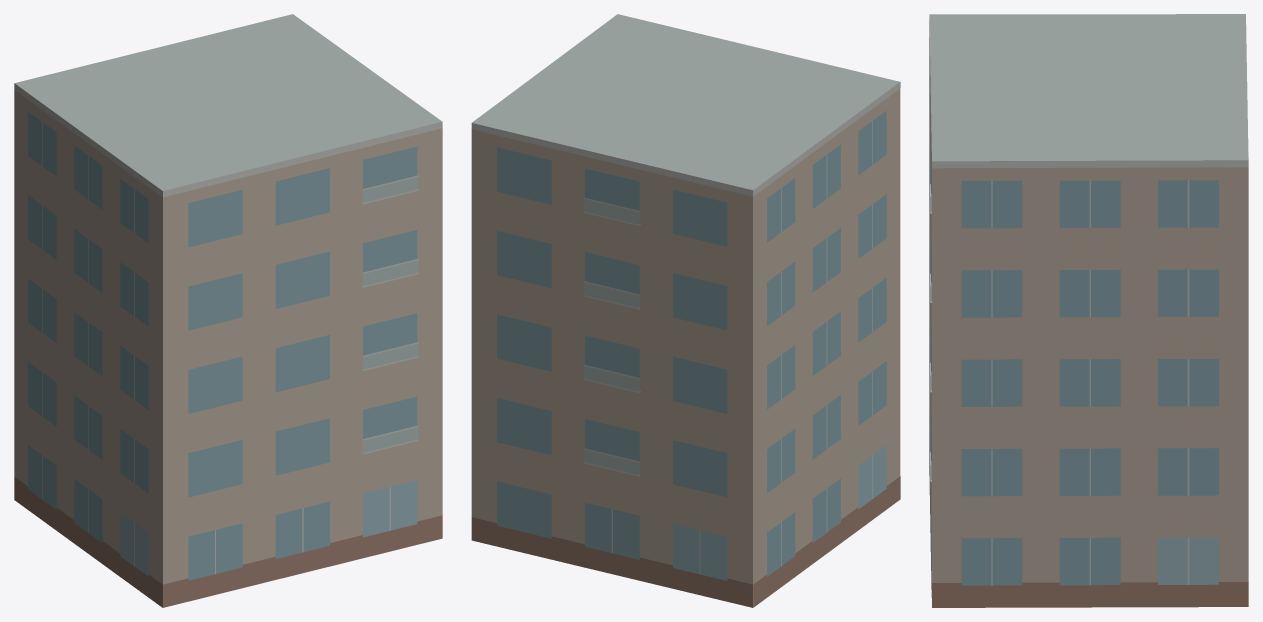
Rendered from survey-upis-32538565.glb.
3 renders of one model, left to right at view 1: azimuth 30°, elevation 25°; view 2: azimuth 150°, elevation 25°; view 3: azimuth 270°, elevation 25°, orthographic. The views are drawn at different scales.
Visible parts, largest first — view 1: survey-upis-32538565.tmp; view 2: survey-upis-32538565.tmp; view 3: survey-upis-32538565.tmp.
Boxes of the visible parts, bbox=[...] form: survey-upis-32538565.tmp: bbox=[14, 14, 442, 607]; survey-upis-32538565.tmp: bbox=[471, 14, 900, 607]; survey-upis-32538565.tmp: bbox=[929, 14, 1248, 607].
Size of the model in its own units: 11.19 by 15.8 by 10.25.
